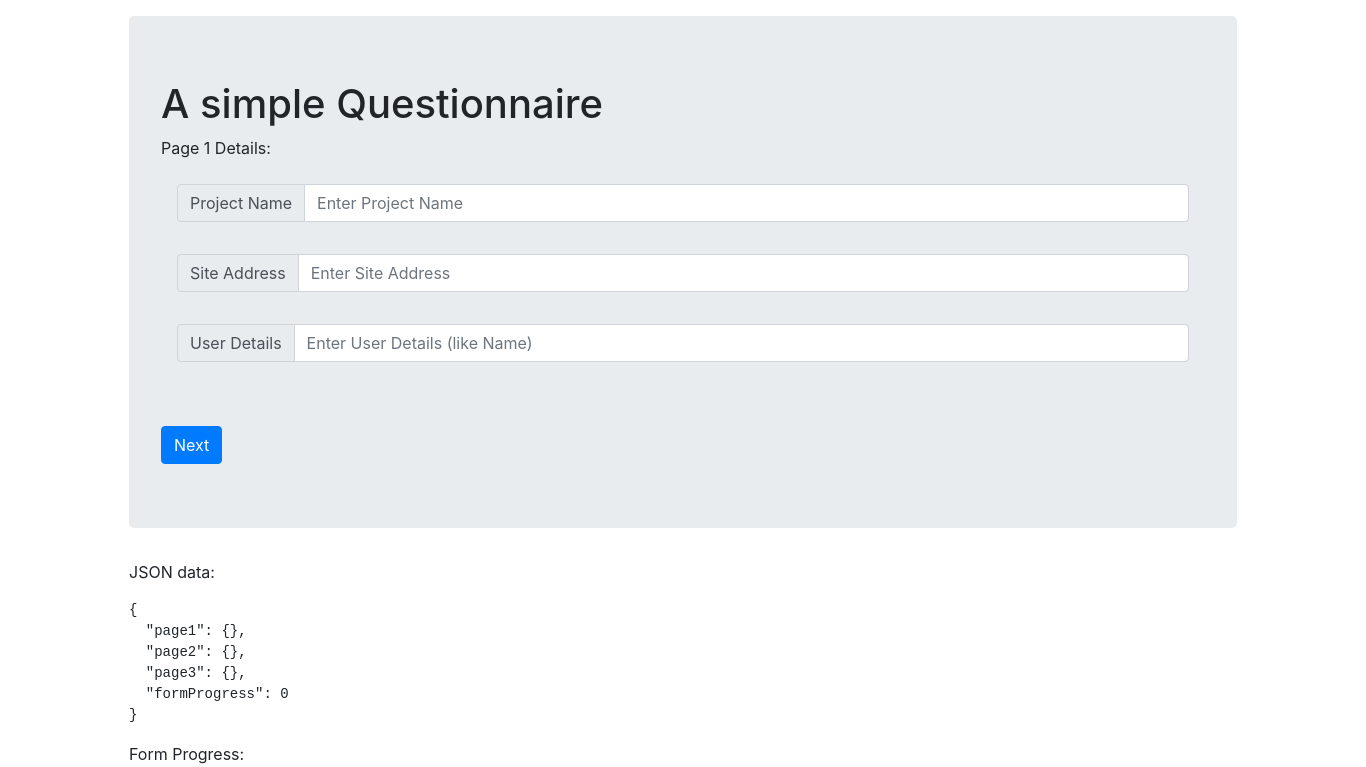
Test: Step1 › Form Submit with Incomplete Values - With Site Address
The width and height of the screenshot is (1366, 767).
Expected: the form is shown, [161,136,1205,464]
Type "12345" into the field named "site_address" at (744, 273), box [298,254,1189,292]
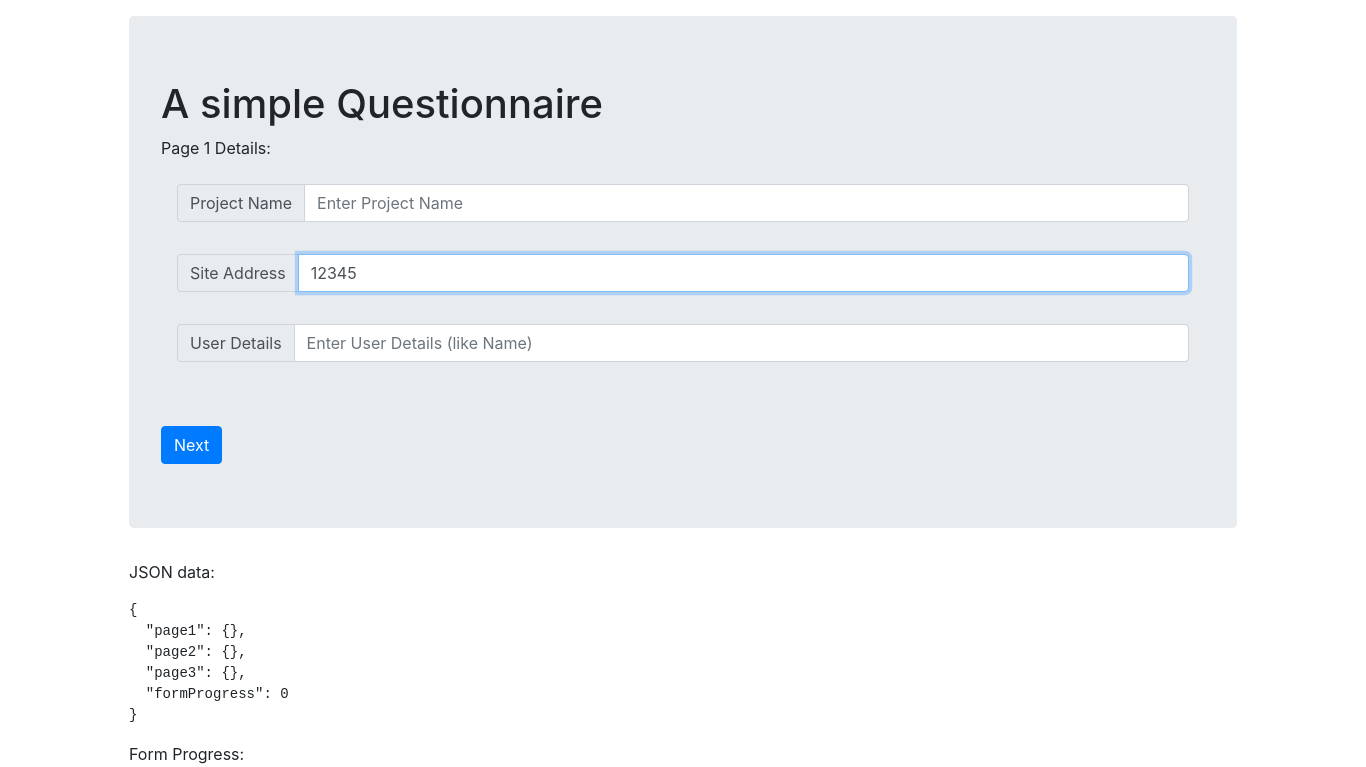
Click the submit button at (192, 445), box [161,426,222,464]
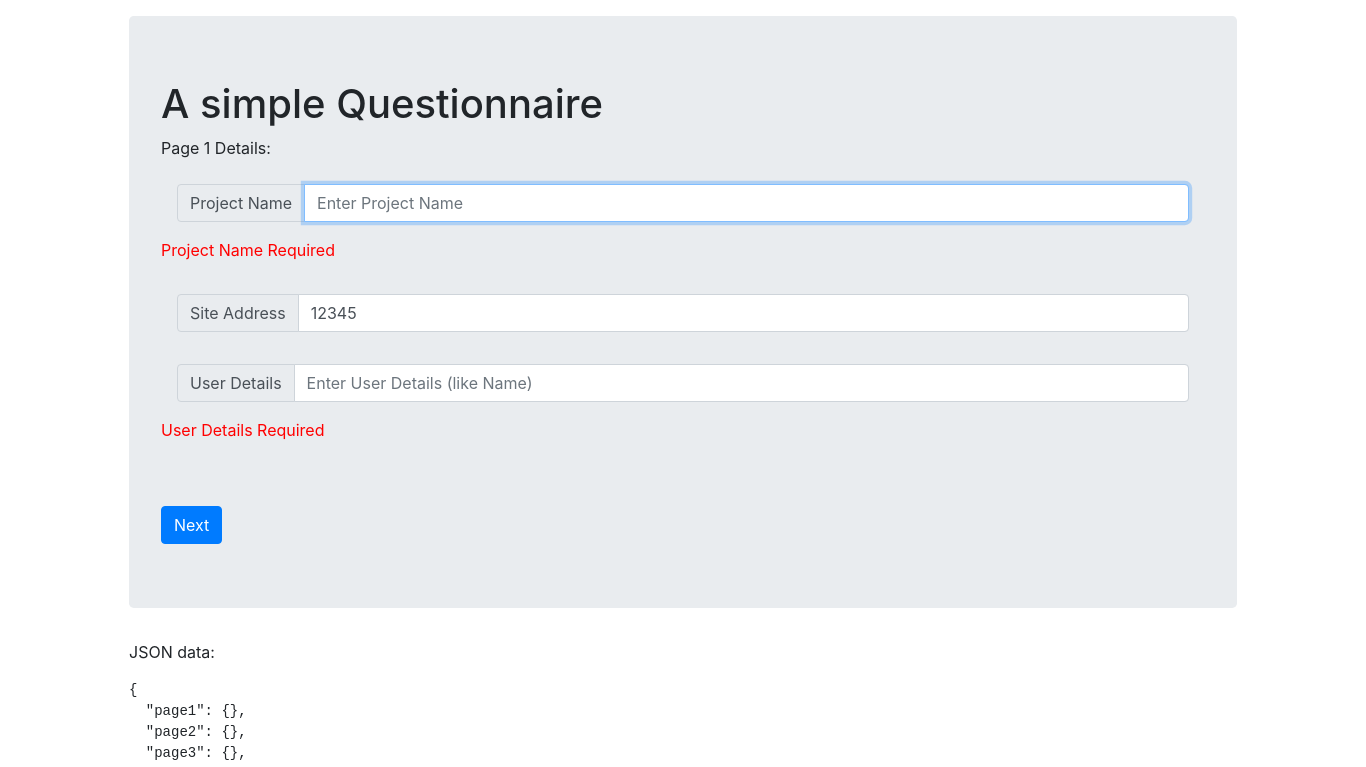
Now the text "Project Name Required" is shown, box [161,240,335,260]
Now the text with class "user_details" reads "User Details Required", box [161,420,325,440]
